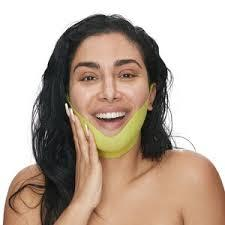Wore Mask Incorrectly: (49, 15, 172, 163)
